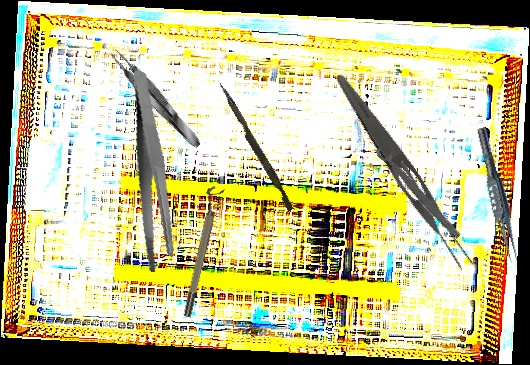Dressing Forceps: (325, 69, 480, 276), (103, 70, 201, 275)
Fixation Ring: (374, 139, 469, 242), (176, 184, 225, 319)
Pusher: (213, 82, 298, 212)
Tissue Forceps: (106, 45, 205, 153), (470, 125, 525, 266)
